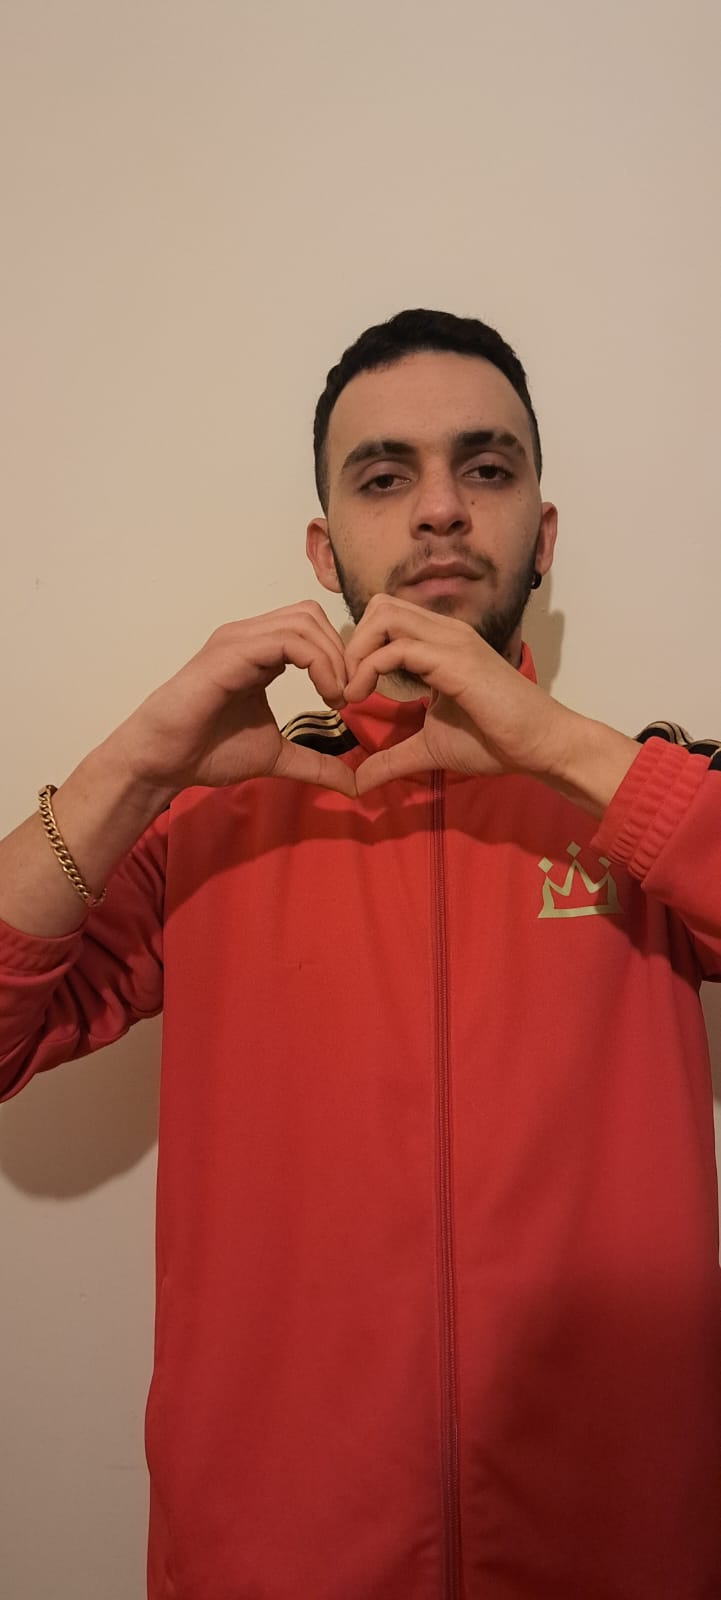cuore: (130, 591, 590, 819)
